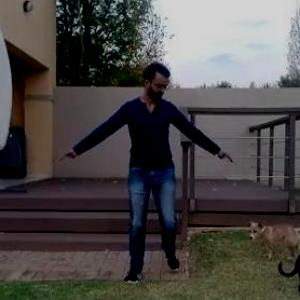land: (40, 64, 223, 286)
